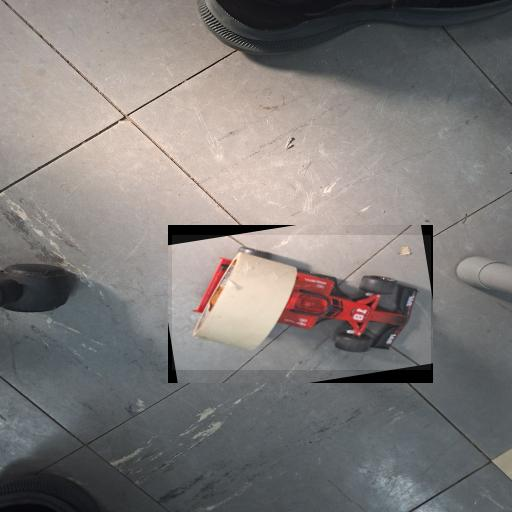carro: (172, 235, 431, 370)
